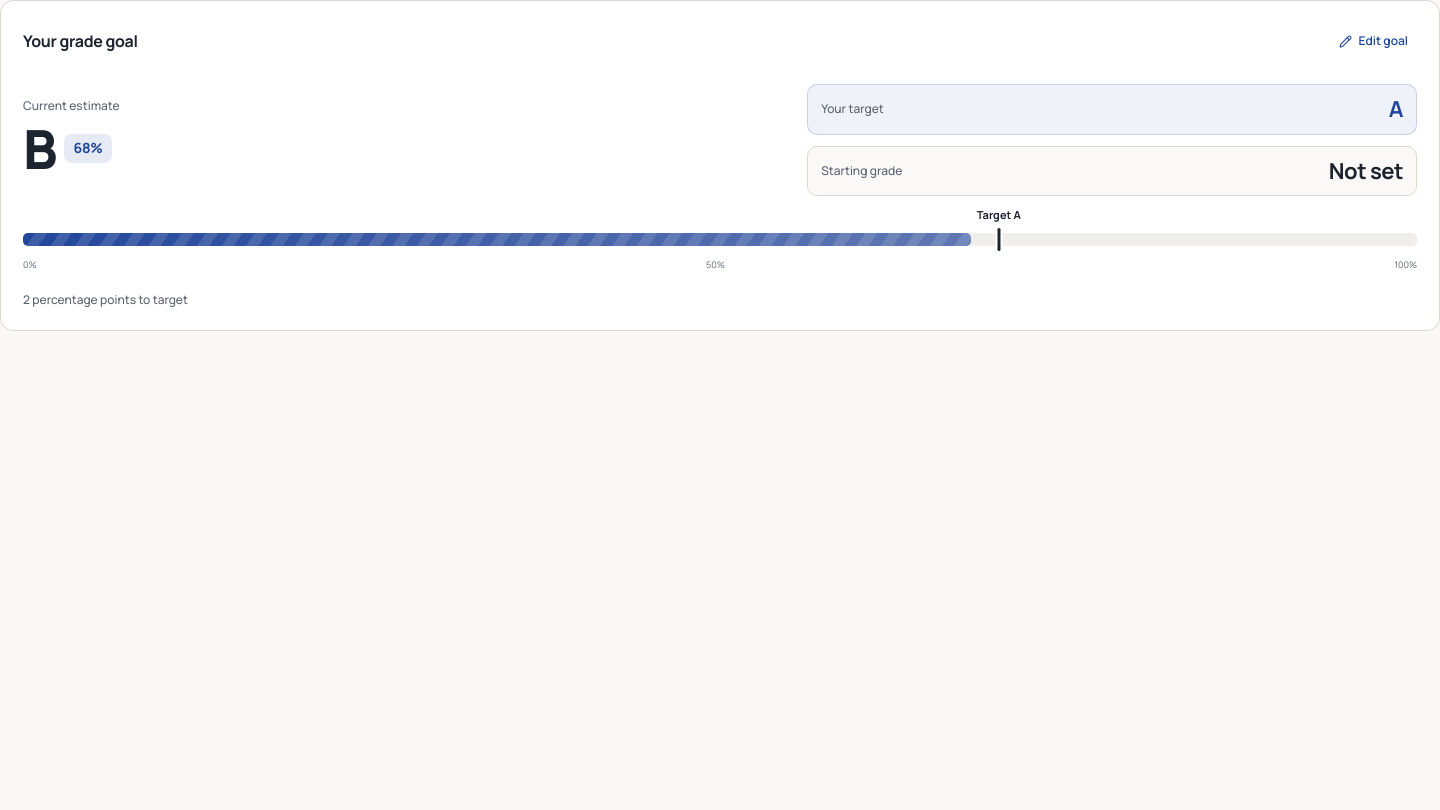
Test: rejects inverted boundaries without modifying the saved goal
Click the button "Edit goal" at {"x": 1374, "y": 41}, box 1330,21 -> 1417,61
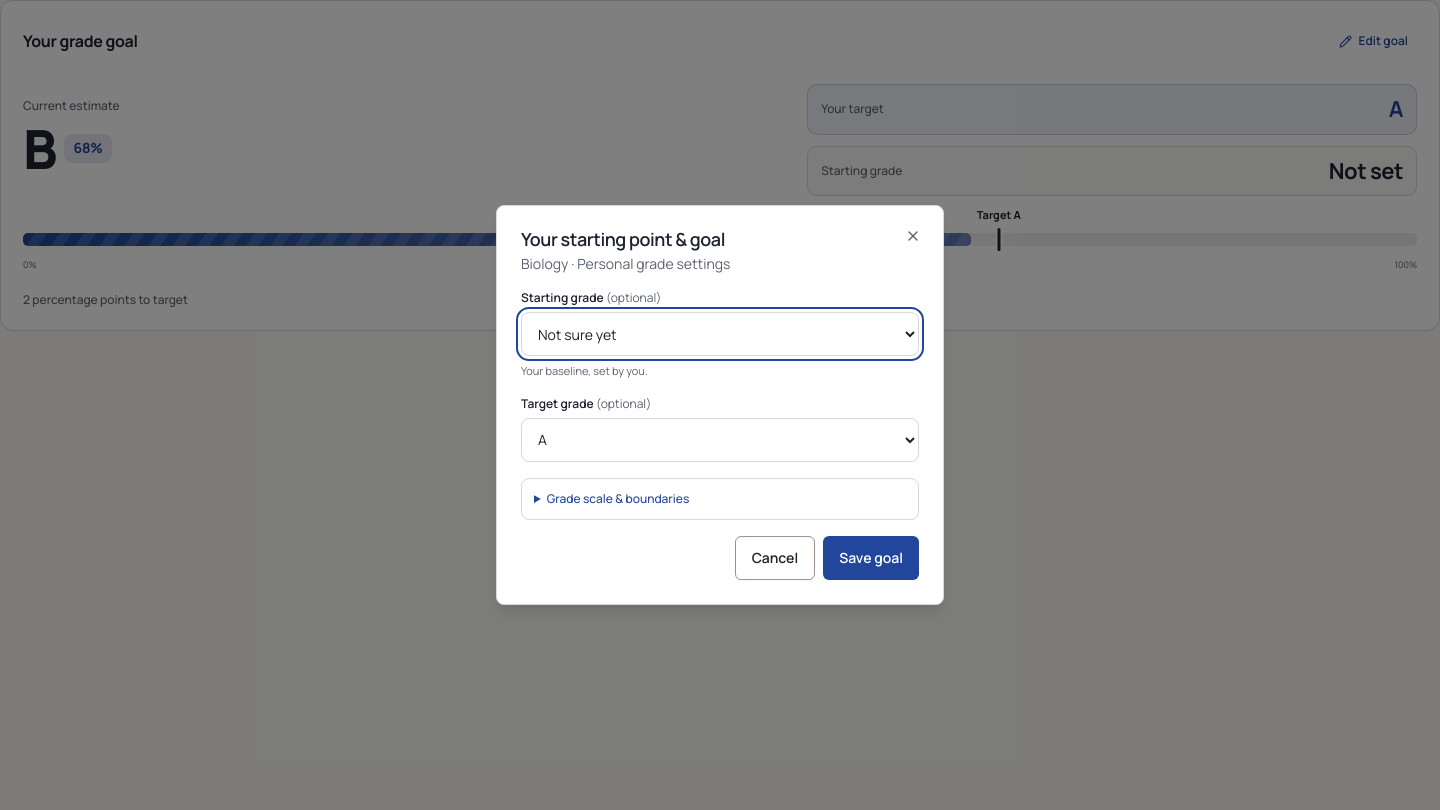
Click the heading "Grade scale & boundaries" at {"x": 618, "y": 498}, box 547,490 -> 689,507
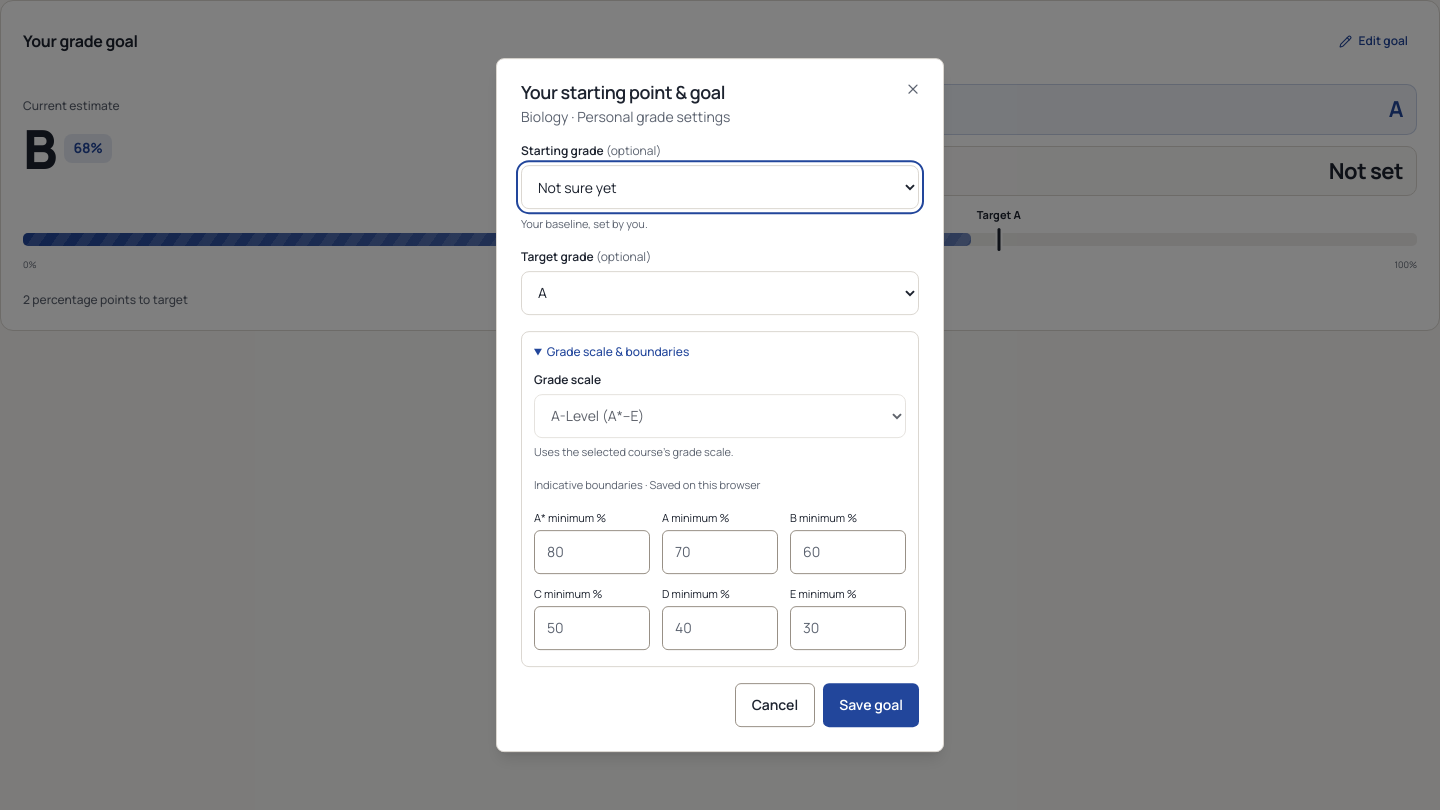
Type "90" into the number field labelled "A minimum %" at {"x": 720, "y": 552}, box 662,530 -> 778,574
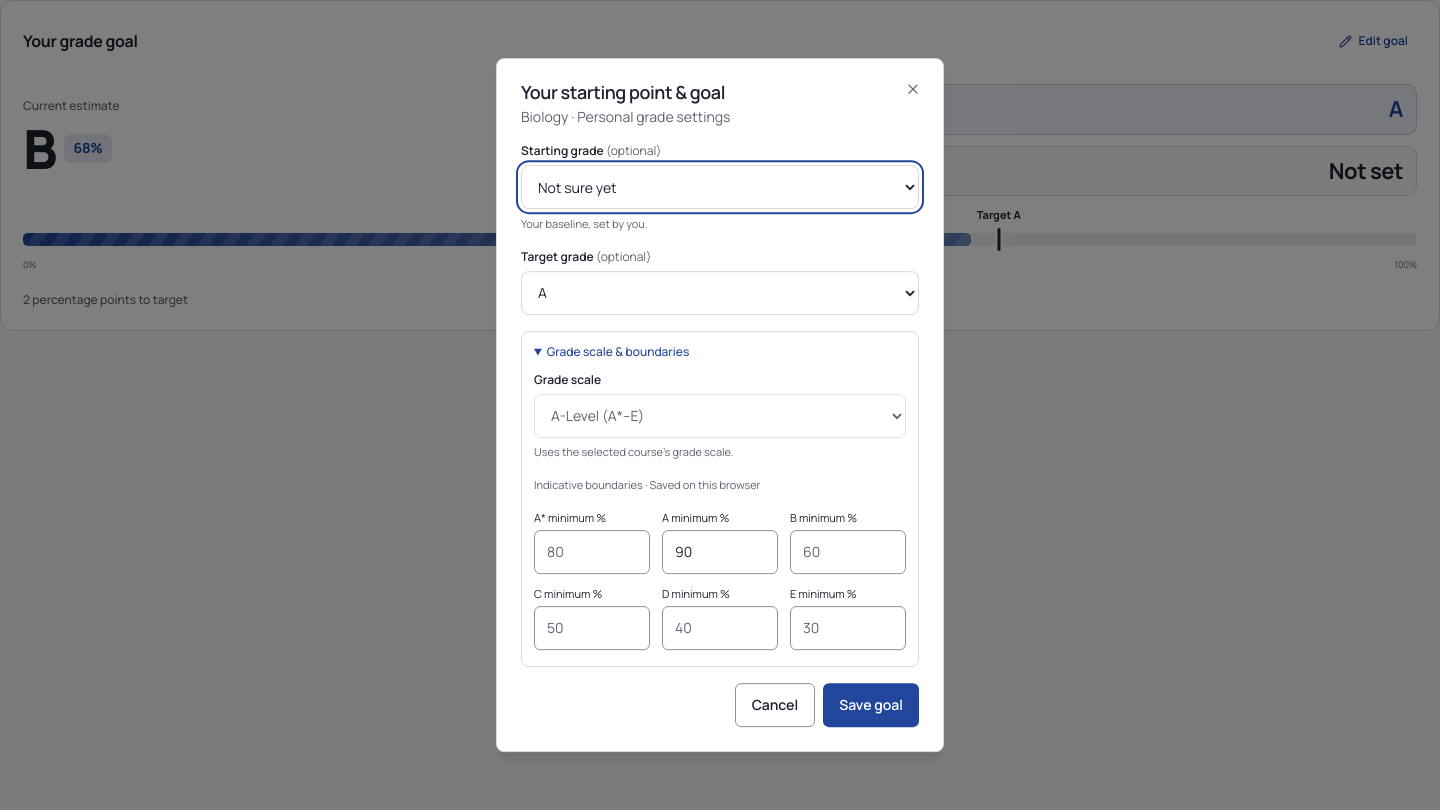
Click the button "Save goal" at {"x": 871, "y": 705}, box 823,683 -> 919,727
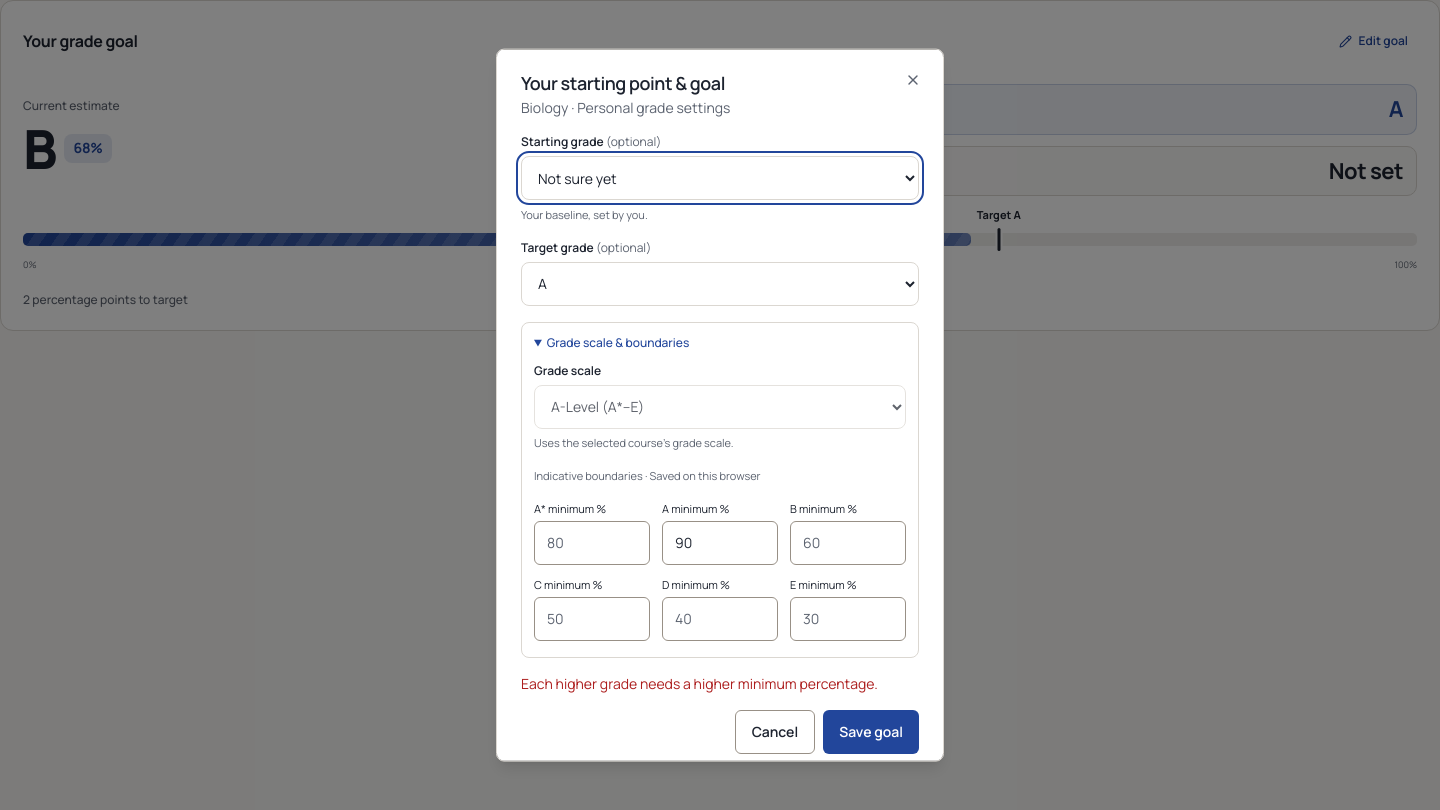
Now the message shows "Each higher grade needs a higher minimum percentage", box 521,673 -> 878,692
